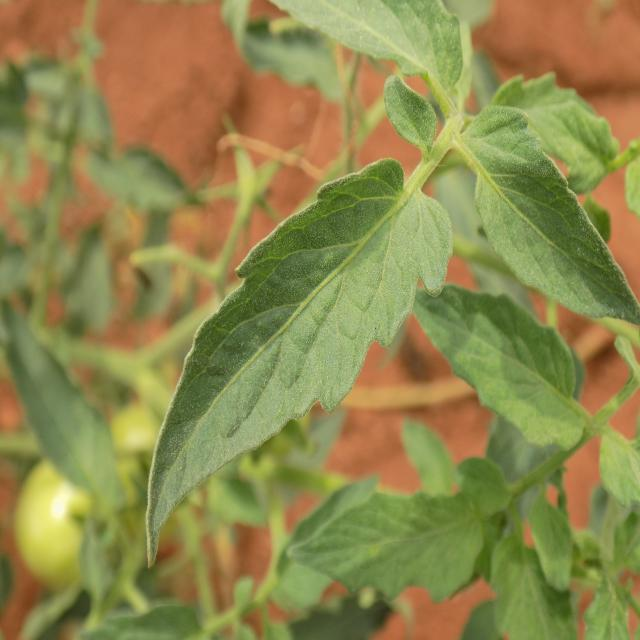tomato_healthy: (148, 158, 453, 566), (464, 104, 640, 320), (415, 286, 585, 449)
